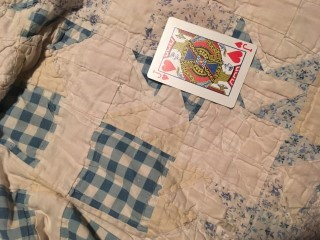JackOfHearts: (147, 16, 257, 108)
